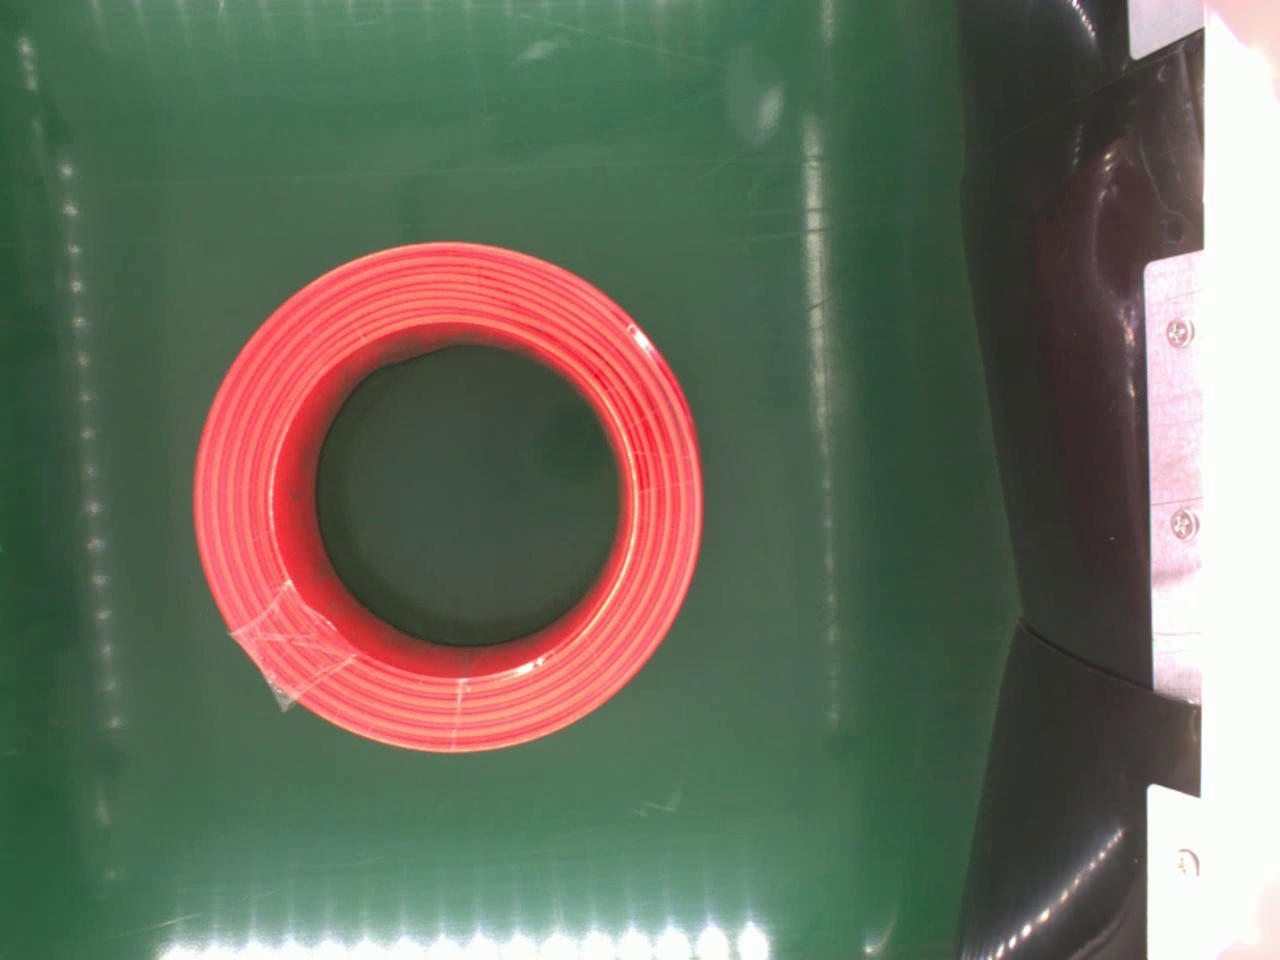red: (188, 239, 698, 745)
